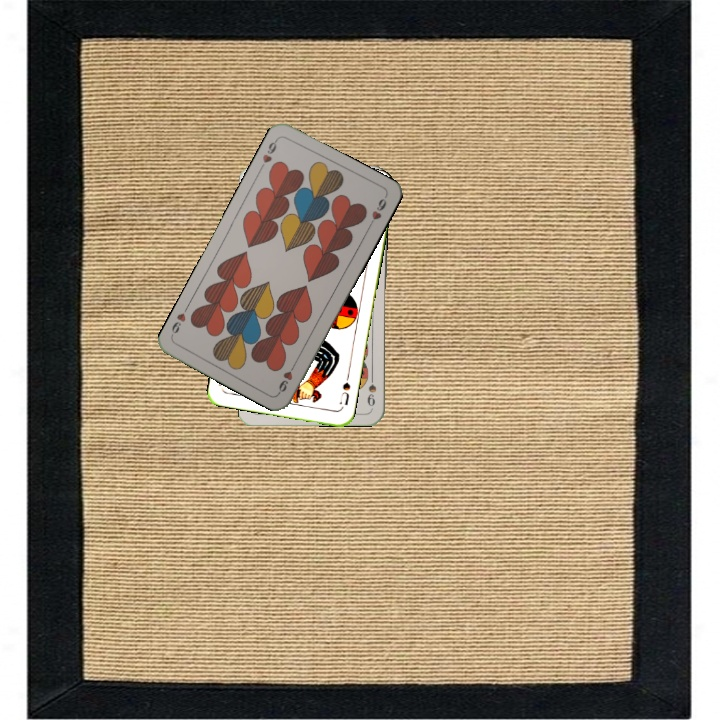H9: (274, 358, 299, 396), (256, 135, 280, 172)
S9: (363, 369, 379, 409)
SU: (335, 371, 353, 411)
